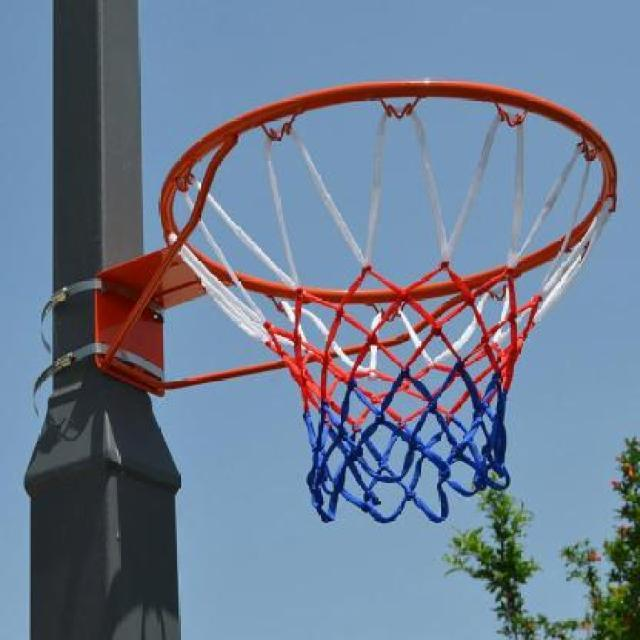rim: (160, 76, 622, 524)
